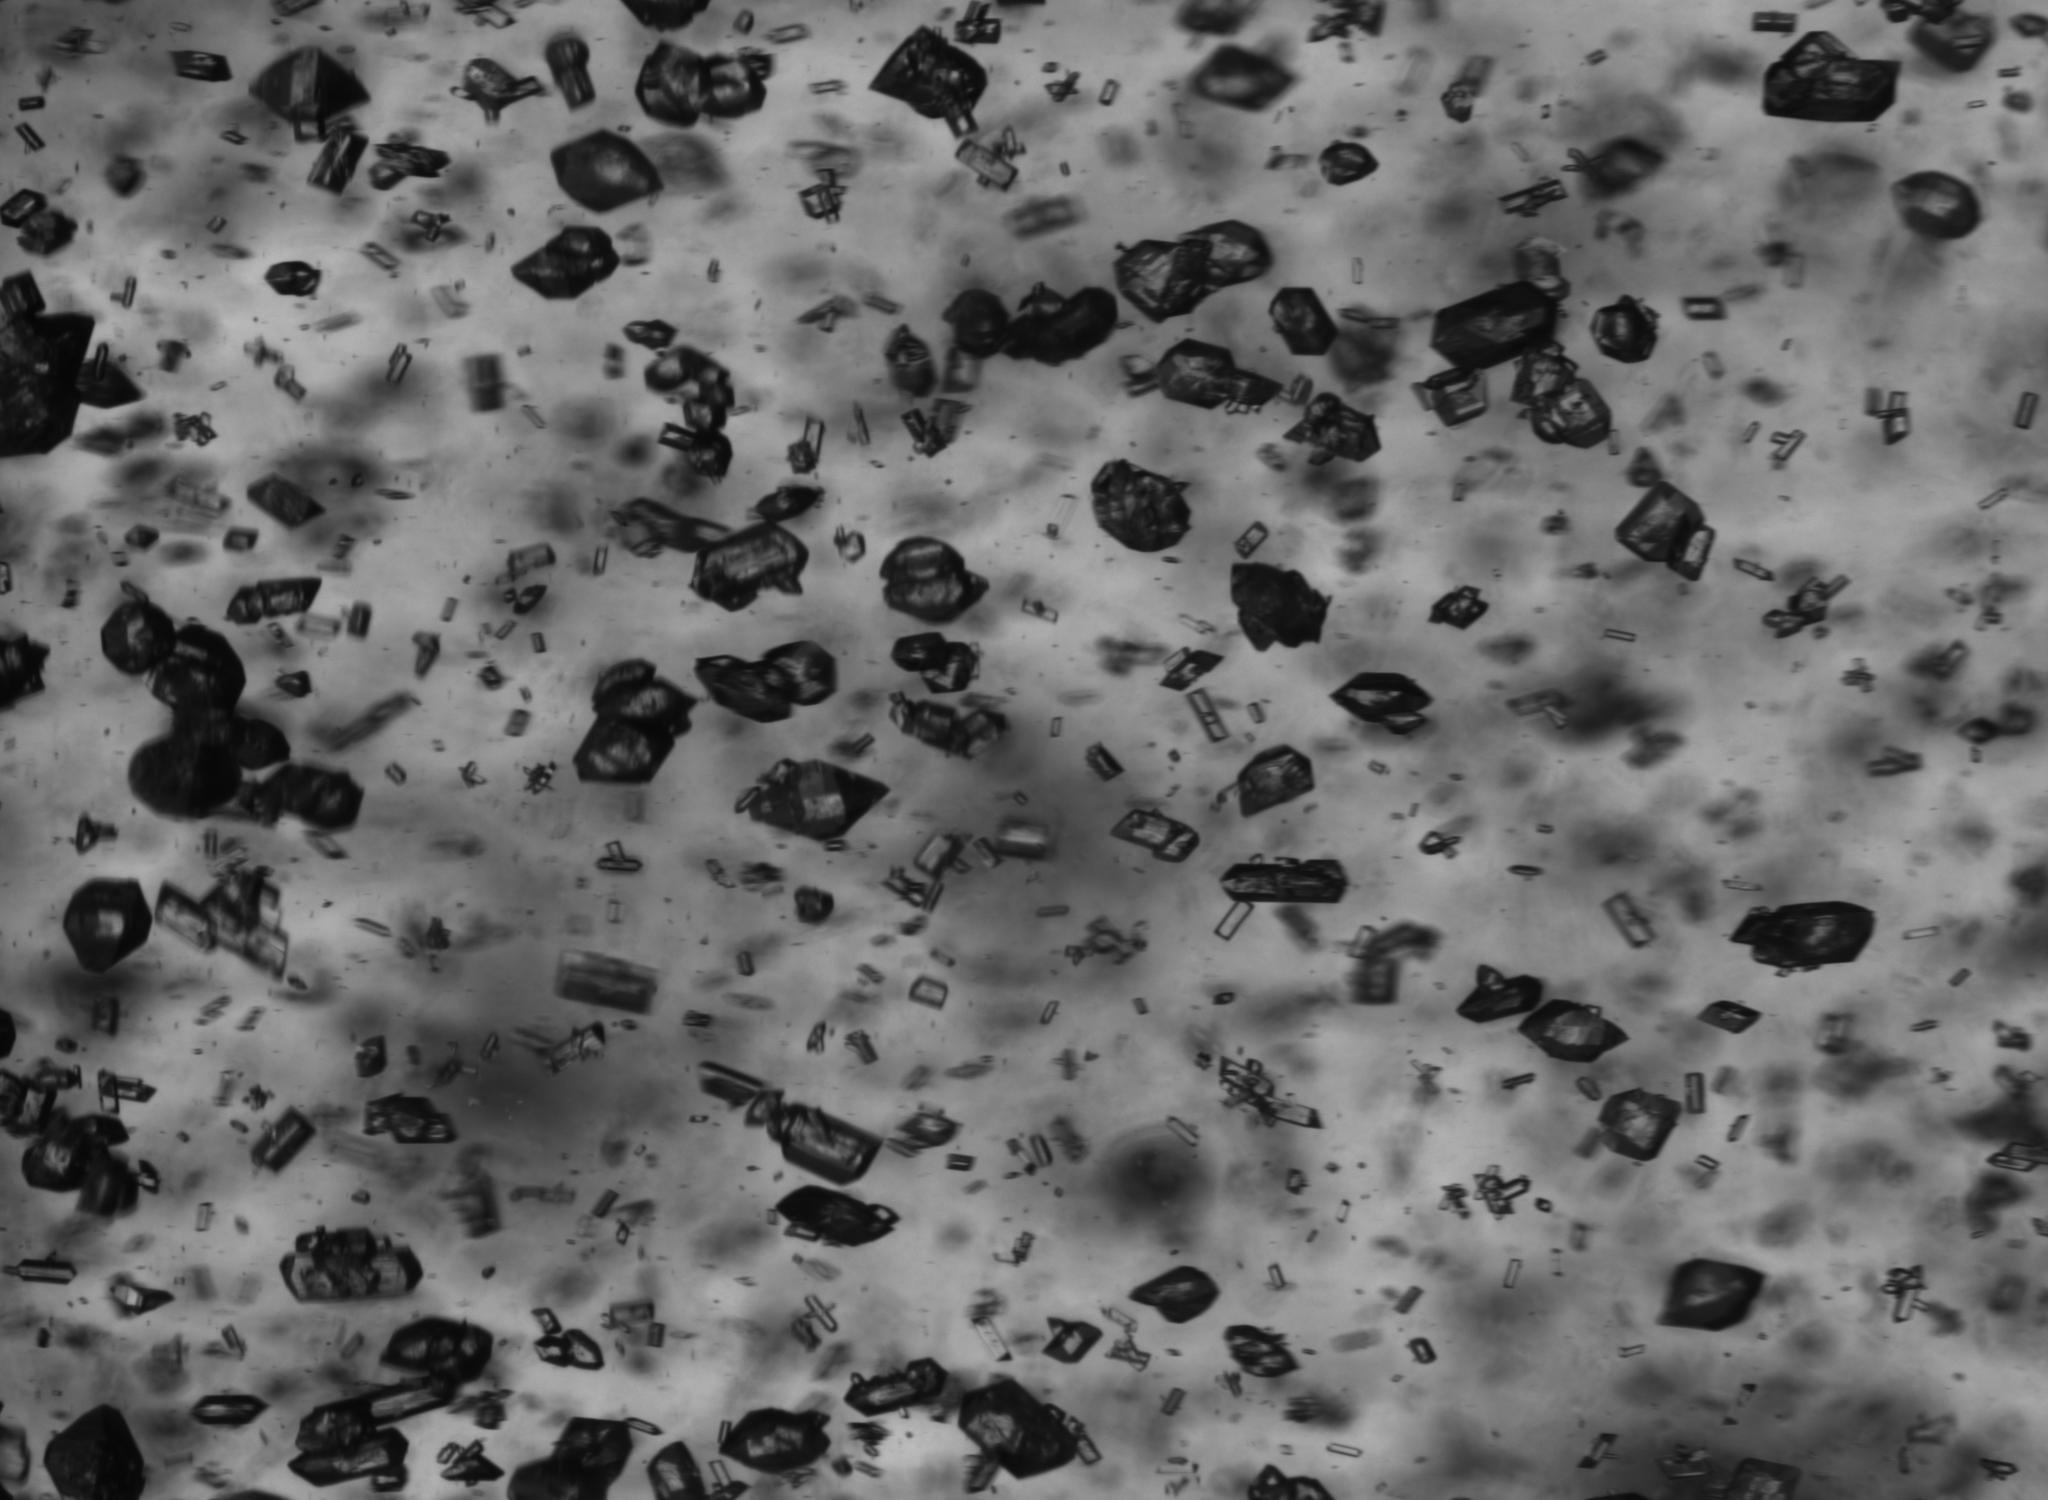crystal: (291, 1319, 491, 1490), (129, 624, 291, 821), (700, 1063, 884, 1185), (0, 272, 92, 458), (959, 1378, 1100, 1494), (1115, 221, 1272, 320), (154, 865, 289, 978), (574, 660, 695, 784), (633, 40, 774, 132), (736, 759, 887, 845), (870, 25, 987, 135), (1431, 280, 1558, 377), (246, 46, 374, 143), (1763, 32, 1899, 122), (644, 347, 735, 479), (1123, 339, 1280, 414), (22, 1115, 138, 1215), (695, 641, 836, 722), (280, 1226, 423, 1303), (1511, 344, 1611, 449), (507, 1417, 633, 1500), (1730, 902, 1875, 972), (692, 523, 808, 609), (1003, 282, 1118, 367), (1616, 480, 1712, 581), (43, 1405, 145, 1500), (881, 536, 987, 624), (1091, 460, 1191, 552), (552, 130, 663, 213), (1231, 562, 1329, 651), (510, 224, 622, 301), (889, 690, 1010, 760), (62, 880, 151, 973), (1218, 1056, 1323, 1131), (776, 1185, 898, 1247), (1662, 1258, 1763, 1331), (719, 1408, 830, 1475), (612, 498, 738, 557), (1283, 391, 1380, 466), (1519, 999, 1627, 1063), (0, 1058, 83, 1137), (555, 951, 658, 1015), (843, 1357, 951, 1417), (1331, 671, 1433, 735), (452, 57, 545, 124), (1762, 573, 1852, 641), (1892, 172, 1981, 240), (889, 630, 979, 697), (1598, 1088, 1681, 1161), (1220, 857, 1347, 903), (100, 600, 175, 676), (1235, 744, 1315, 816), (1107, 806, 1200, 864), (1456, 964, 1544, 1023), (1131, 1266, 1220, 1323), (363, 1093, 456, 1144), (246, 471, 328, 530), (1269, 286, 1337, 355), (1590, 296, 1657, 364), (226, 577, 321, 625), (943, 288, 1007, 359), (305, 129, 369, 197), (1415, 367, 1488, 426), (1065, 916, 1150, 966), (251, 1107, 316, 1171), (544, 32, 595, 110), (1224, 1325, 1297, 1379), (370, 140, 450, 189), (902, 399, 964, 461), (886, 321, 933, 399), (1722, 1457, 1805, 1500), (647, 1443, 708, 1500), (1514, 239, 1568, 301), (549, 1020, 606, 1077), (956, 138, 1018, 191), (531, 1328, 606, 1371), (436, 1440, 504, 1486), (1158, 646, 1226, 692), (1504, 689, 1577, 732), (1248, 1463, 1332, 1500), (1879, 1263, 1930, 1323), (1041, 1317, 1105, 1365), (493, 541, 558, 587), (1472, 1164, 1530, 1217), (95, 1069, 156, 1118), (1603, 892, 1655, 948), (1493, 178, 1569, 216), (17, 207, 76, 256), (1318, 140, 1380, 186), (911, 832, 967, 883), (108, 1274, 173, 1315), (754, 485, 820, 525), (191, 1392, 266, 1427), (0, 1252, 76, 1285), (1429, 585, 1488, 628), (1189, 686, 1232, 744), (798, 167, 846, 220), (994, 819, 1053, 861), (894, 1110, 959, 1147), (1655, 1446, 1720, 1481), (797, 296, 857, 332), (264, 259, 321, 297), (787, 418, 822, 477), (879, 867, 929, 908), (1984, 1142, 2048, 1174), (1700, 1001, 1760, 1034), (1864, 746, 1924, 779), (1212, 899, 1256, 943), (73, 813, 118, 857), (970, 1315, 1013, 1362), (954, 0, 1000, 43), (1875, 391, 1911, 445), (0, 188, 48, 229), (170, 49, 231, 81), (622, 318, 679, 352), (453, 0, 515, 29), (1439, 80, 1479, 124), (595, 838, 644, 873), (1084, 741, 1126, 783), (1574, 1433, 1620, 1470), (1720, 1384, 1759, 1427), (711, 1459, 751, 1498), (795, 884, 833, 926), (1231, 520, 1269, 560), (410, 210, 453, 245), (991, 1230, 1034, 1265), (355, 1034, 388, 1078), (1110, 1338, 1151, 1373), (846, 1028, 881, 1067), (906, 977, 948, 1010), (1770, 428, 1808, 463), (180, 412, 218, 447), (412, 631, 440, 678), (806, 1293, 838, 1335), (833, 523, 865, 565), (611, 1300, 655, 1328), (359, 243, 401, 274), (1007, 1136, 1035, 1179), (523, 760, 558, 795), (789, 1315, 822, 1352), (275, 364, 307, 402), (972, 835, 1005, 870), (1437, 1185, 1471, 1220), (1841, 659, 1876, 692), (385, 342, 412, 385), (273, 671, 313, 700), (1045, 72, 1080, 103), (1681, 297, 1727, 321), (2013, 391, 2040, 431), (1166, 1115, 1199, 1147), (704, 857, 738, 889), (512, 585, 547, 616), (763, 22, 809, 45), (14, 121, 46, 153), (529, 1306, 564, 1335), (122, 523, 159, 550), (1027, 1133, 1054, 1169), (1418, 832, 1460, 856), (347, 600, 372, 638), (1021, 598, 1059, 624), (1684, 1072, 1706, 1115), (1751, 13, 1797, 33), (1735, 560, 1776, 582), (592, 1188, 620, 1220), (1393, 1285, 1425, 1314), (1976, 485, 2010, 512), (223, 525, 258, 550), (351, 918, 393, 938), (137, 1161, 161, 1196), (1978, 1457, 2018, 1478), (622, 1417, 665, 1436), (460, 759, 487, 789), (1409, 1336, 1439, 1363), (1161, 1387, 1186, 1419), (921, 880, 944, 913), (806, 1020, 827, 1056), (479, 662, 506, 689), (92, 342, 110, 382), (1902, 926, 1945, 942), (1501, 1258, 1522, 1290), (946, 1152, 975, 1174), (522, 406, 547, 429), (731, 8, 755, 33), (1727, 1115, 1749, 1142), (1097, 78, 1118, 107), (479, 1032, 499, 1061), (1154, 1462, 1200, 1475), (1326, 1443, 1363, 1459), (1582, 48, 1609, 68), (121, 275, 137, 310), (1267, 1263, 1286, 1292), (808, 80, 846, 94), (1501, 1074, 1534, 1090), (196, 1201, 213, 1231), (592, 546, 609, 576), (929, 948, 956, 967), (1603, 628, 1638, 643), (495, 619, 517, 641), (204, 215, 227, 235), (647, 1322, 666, 1347), (386, 762, 405, 787), (1040, 999, 1059, 1024), (218, 130, 248, 146), (1616, 1344, 1646, 1360), (681, 1010, 711, 1026), (736, 950, 754, 977), (1285, 1169, 1302, 1196), (439, 598, 458, 622), (1035, 903, 1070, 916), (529, 631, 549, 654), (1504, 865, 1542, 876), (1509, 143, 1531, 162), (1334, 1199, 1350, 1225), (1247, 701, 1264, 724), (19, 95, 46, 110), (1697, 1155, 1720, 1171), (350, 1188, 370, 1206), (615, 1223, 630, 1247), (110, 552, 130, 568), (1352, 256, 1363, 285), (1049, 716, 1062, 740), (1132, 997, 1148, 1016), (1213, 991, 1234, 1005), (1999, 67, 2023, 78), (1536, 1198, 1552, 1214), (1367, 760, 1385, 775), (1167, 1457, 1189, 1467), (1965, 100, 1986, 110), (1536, 824, 1553, 835), (210, 382, 227, 391), (1541, 103, 1550, 119)
